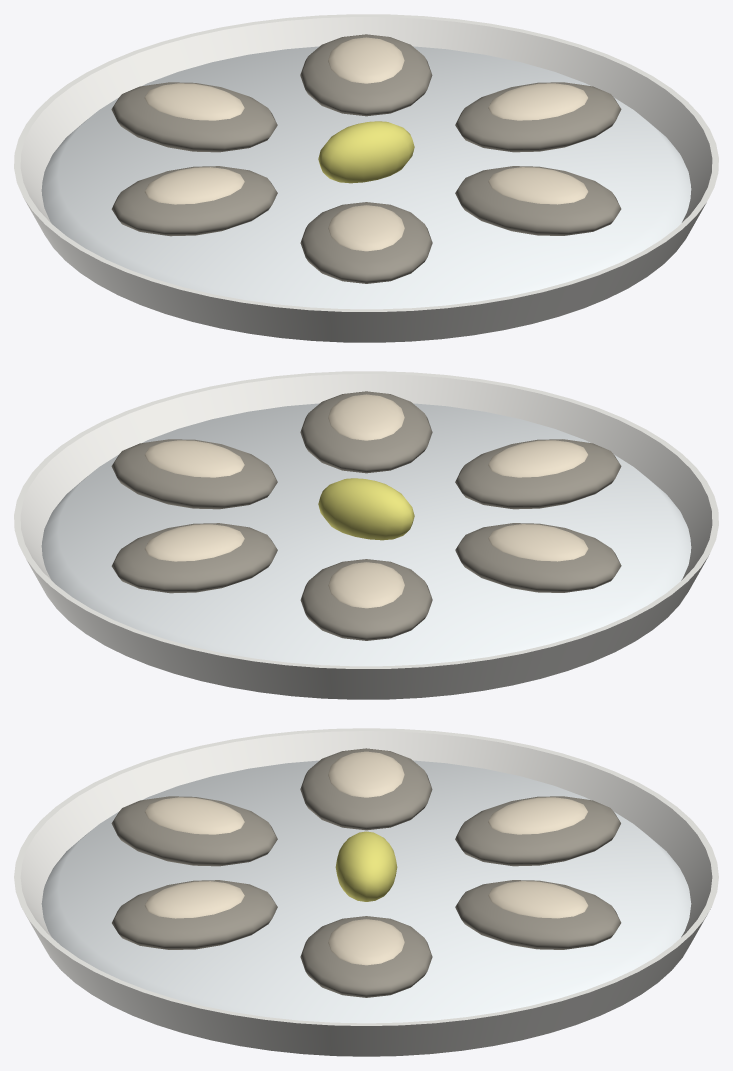
The model's file is ostras.glb.
The picture shows the model from 3 angles, top to bottom: view 1: azimuth 30°, elevation 25°; view 2: azimuth 150°, elevation 25°; view 3: azimuth 270°, elevation 25°; orthographic projection.
Parts seen in each view (by area): view 1: ostras; view 2: ostras; view 3: ostras.
Boxes of the visible parts, x1,y1,x2,y2 form: ostras: (14, 14, 718, 342); ostras: (14, 371, 718, 699); ostras: (14, 728, 718, 1056).
Size of the model in its own units: 0.32 by 0.039 by 0.32.
